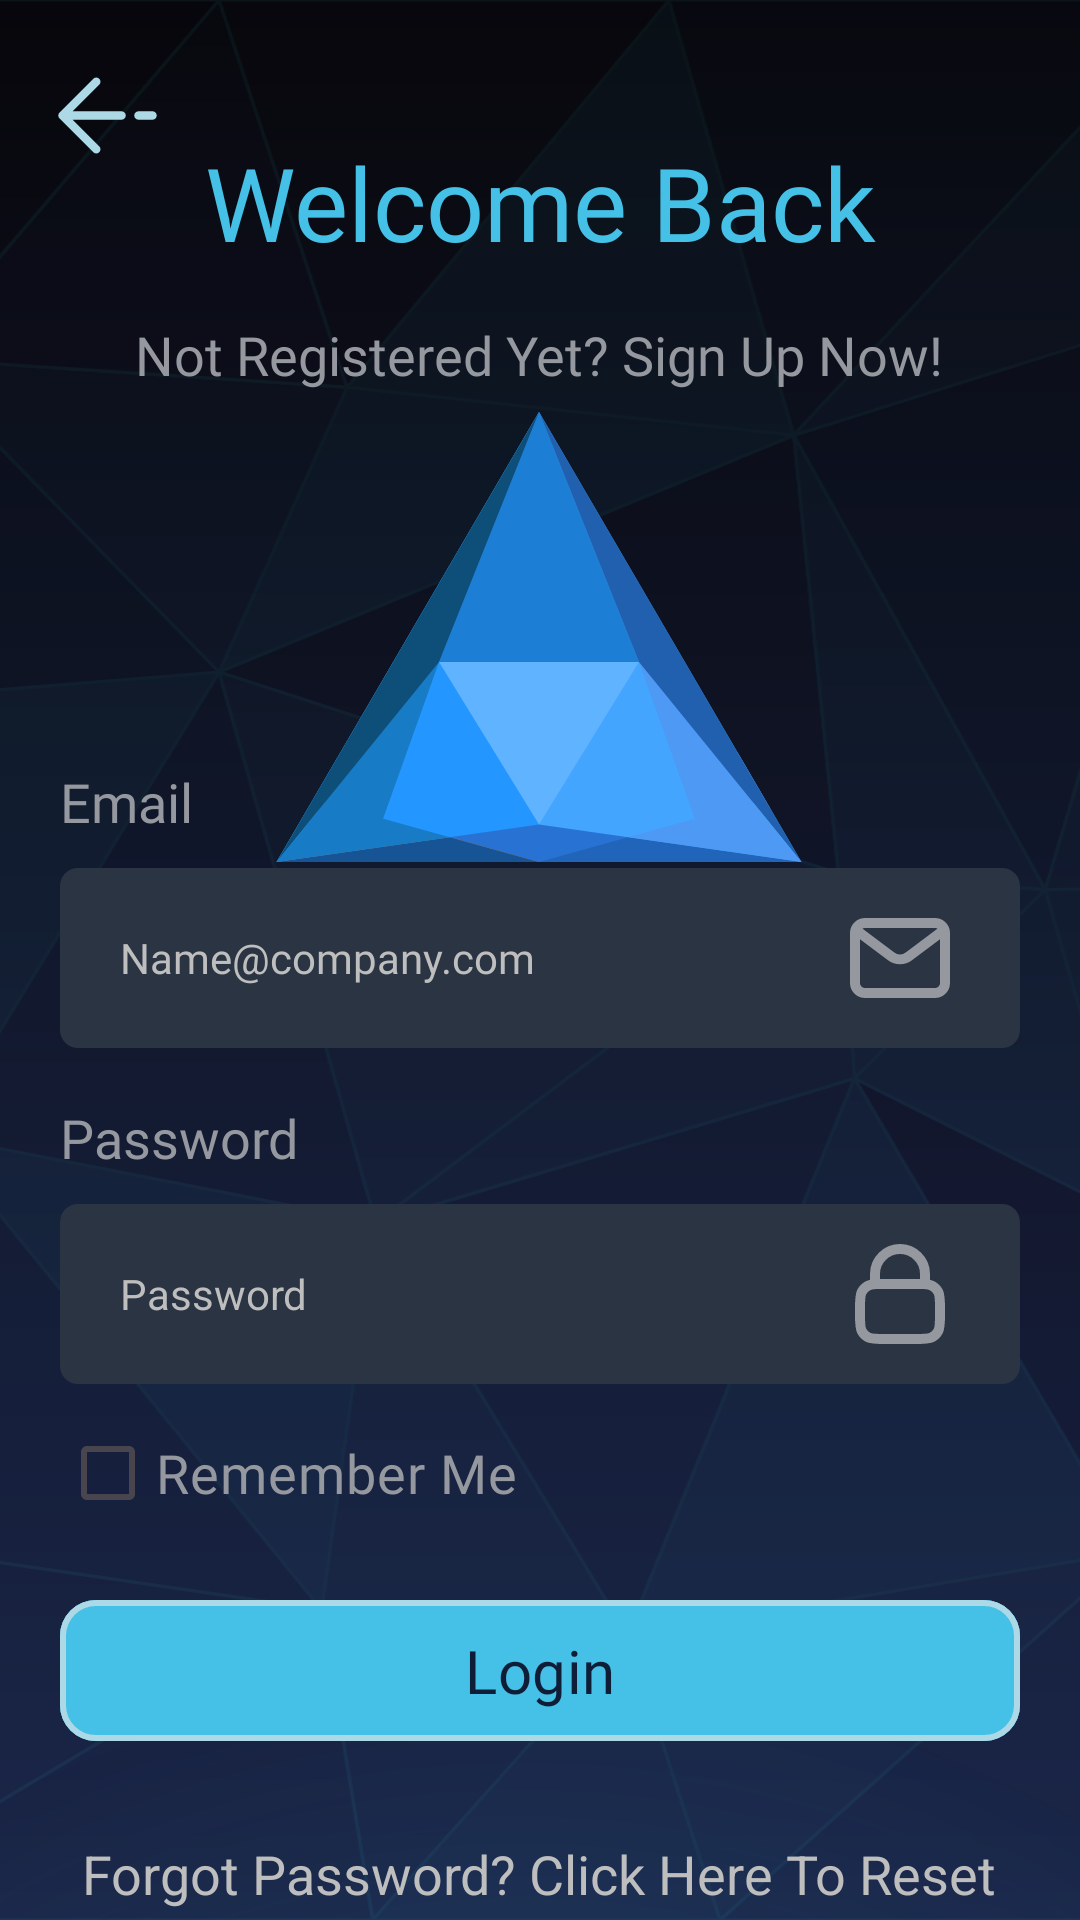

Locate icon controls on the screen. Image size 1080 × 1920, boxes as (x1, y1, x2, y2).
arrow back: (58, 77, 157, 154)
